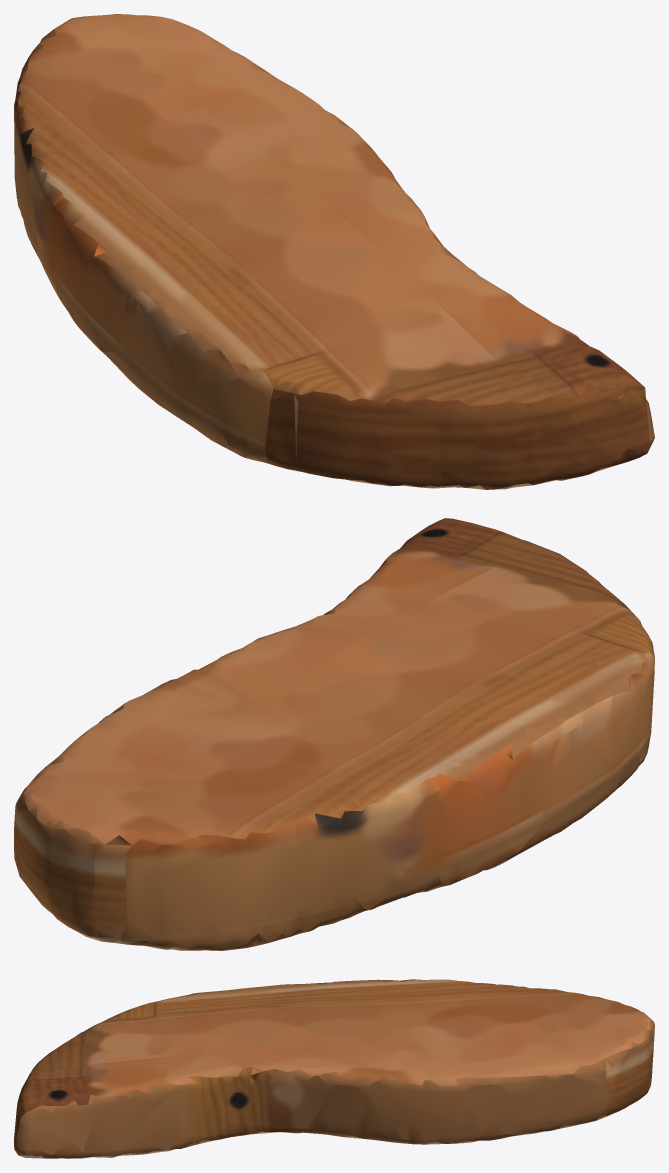
File: Glacier_board13.fbx
The picture shows the model from 3 angles, top to bottom: view 1: azimuth 30°, elevation 25°; view 2: azimuth 150°, elevation 25°; view 3: azimuth 270°, elevation 25°; orthographic projection. The views are drawn at different scales.
Visible parts, largest first — view 1: material_0; view 2: material_0; view 3: material_0.
Boxes of the visible parts, x1=… form: material_0: x1=14, y1=14, x2=654, y2=489; material_0: x1=14, y1=518, x2=654, y2=950; material_0: x1=14, y1=979, x2=654, y2=1158.
Size of the model in its own units: 0.1458 by 0.0669 by 0.3546.
